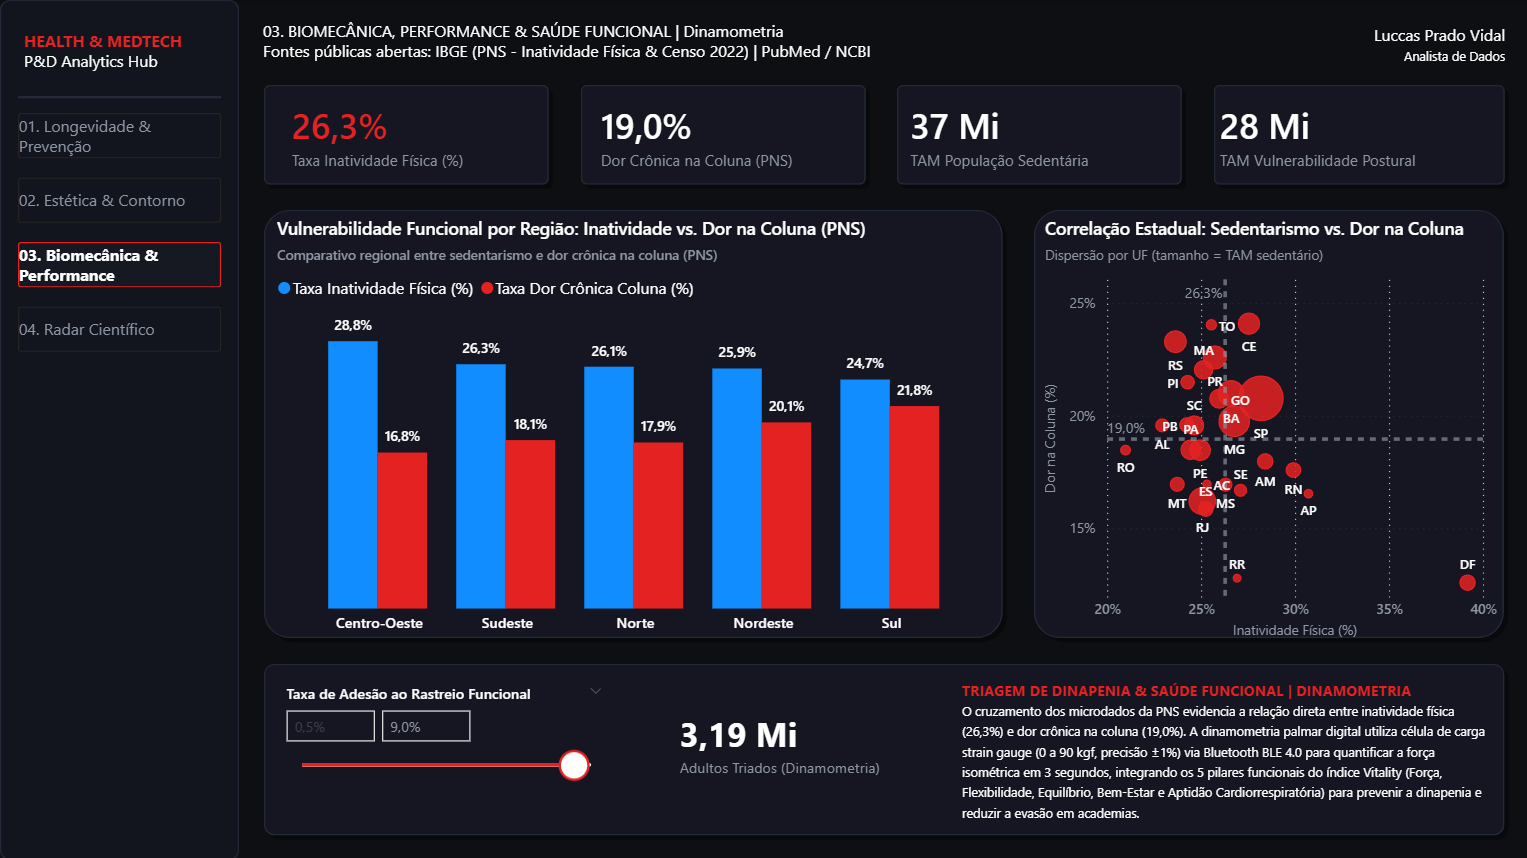

The page's visual inventory and layout, read from the dashboard file:
{"tool":"powerbi","page":{"name":"03. Biomecânica & Performance","canvas":[1280,720],"ordinal":2},"visuals":[{"type":"shape","box":[0,0,200.1,720],"z":0},{"type":"shape","box":[215,65,250,95],"z":0,"group":"g1"},{"type":"group","id":"g1","title":"Grupo 1","box":[215,65,1050,640],"z":1000},{"type":"shape","box":[745,65,250,95],"z":1000,"group":"g1"},{"type":"textbox","box":[215,12,700,45],"z":2000},{"type":"shape","box":[1010,65,255,95],"z":2000,"group":"g1"},{"type":"textbox","box":[920,15,345,46],"z":3000},{"type":"shape","box":[215,170,630,370],"z":3000,"group":"g1"},{"type":"textbox","box":[15,20,150,50],"z":4000},{"type":"shape","box":[480,65,250,95],"z":4000,"group":"g1"},{"type":"shape","box":[15,75,170,12],"z":5000},{"type":"shape","box":[215,550,1050,155],"z":5000,"group":"g1"},{"type":"pageNavigator","box":[15,95,170,200],"z":6000},{"type":"shape","box":[860,170,405,370],"z":6000,"group":"g1"},{"type":"cardVisual","fields":{"Data":["_Medidas.Taxa Inatividade Física (%)","_Medidas.Taxa Dor Crônica Coluna (%)","_Medidas.TAM População Sedentária (Brasil)","_Medidas.TAM Risco Postural Coluna (Brasil)"]},"box":[215.2,64.9,1064.8,95.5],"z":7000},{"type":"clusteredColumnChart","title":"Vulnerabilidade Funcional por Região: Inatividade vs. Dor na Coluna (PNS)","fields":{"Category":["d_Geografia_Brasil.Regiao"],"Y":["_Medidas.Taxa Inatividade Física (%)","_Medidas.Taxa Dor Crônica Coluna (%)"]},"box":[227.2,180.9,610.3,359],"z":8000},{"type":"scatterChart","title":"Correlação Estadual: Sedentarismo vs. Dor na Coluna","fields":{"Category":["d_Geografia_Brasil.Sigla_UF"],"X":["_Medidas.Taxa Inatividade Física (%)"],"Y":["_Medidas.Taxa Dor Crônica Coluna (%)"],"Size":["_Medidas.TAM População Sedentária (Brasil)"]},"box":[870,180.9,388.6,359],"z":9000},{"type":"textbox","box":[800.1,563.5,451,129.9],"z":9003,"group":"g1"},{"type":"slicer","fields":{"Values":["p_Taxa_Adesao_Fitness.Value"]},"box":[227.1,567.1,289.4,120.4],"z":10000},{"type":"cardVisual","fields":{"Data":["_Medidas.População Triada Vitality (Simulado)"]},"box":[540,560,240,125],"z":11000}]}

Visuals, with their boxes in screenshot pixels (x1, y1, x2, y2), scaled from the page's 1280x720 canvas onto the 1527x858 screenshot:
shape: 0/0/239/857
shape: 256/77/555/191
"Grupo 1" group: 256/77/1509/840
shape: 889/77/1187/191
textbox: 256/14/1092/68
shape: 1205/77/1509/191
textbox: 1098/18/1509/73
shape: 256/203/1008/644
textbox: 18/24/197/83
shape: 573/77/871/191
shape: 18/89/221/104
shape: 256/655/1509/840
pageNavigator: 18/113/221/352
shape: 1026/203/1509/644
cardVisual - _Medidas.Taxa Inatividade Física (%) x _Medidas.Taxa Dor Crônica Coluna (%): 257/77/1526/191
"Vulnerabilidade Funcional por Região: Inatividade vs. Dor na Coluna (PNS)" clusteredColumnChart: 271/216/999/643
"Correlação Estadual: Sedentarismo vs. Dor na Coluna" scatterChart: 1038/216/1501/643
textbox: 954/672/1493/826
slicer - p_Taxa_Adesao_Fitness.Value: 271/676/616/819
cardVisual - _Medidas.População Triada Vitality (Simulado): 644/667/931/816
